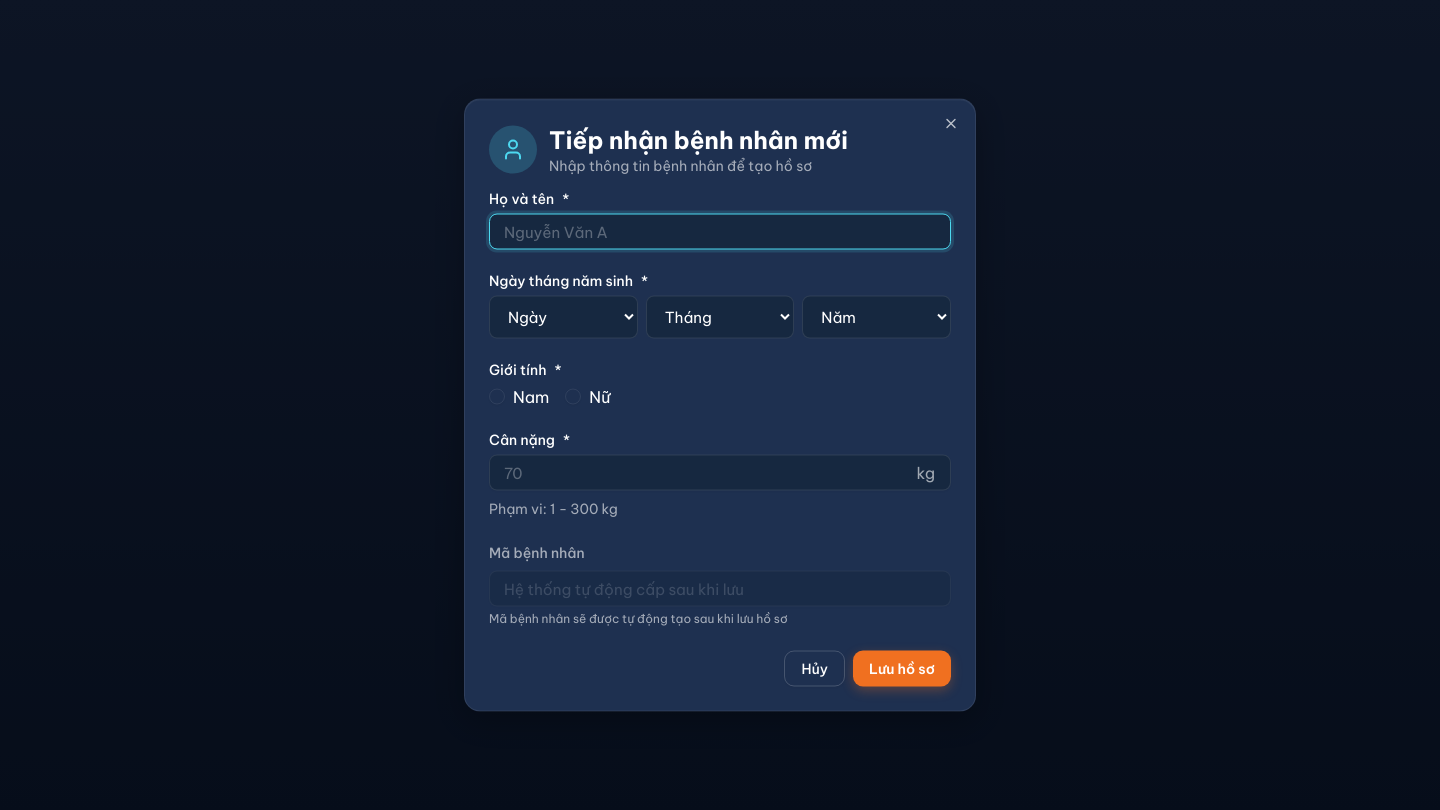
Test: PatientRegistrationDialog Component › Form Validation › should show error for empty full name
Click the button "Lưu hồ sơ": (902, 668) 853,650 -> 951,686
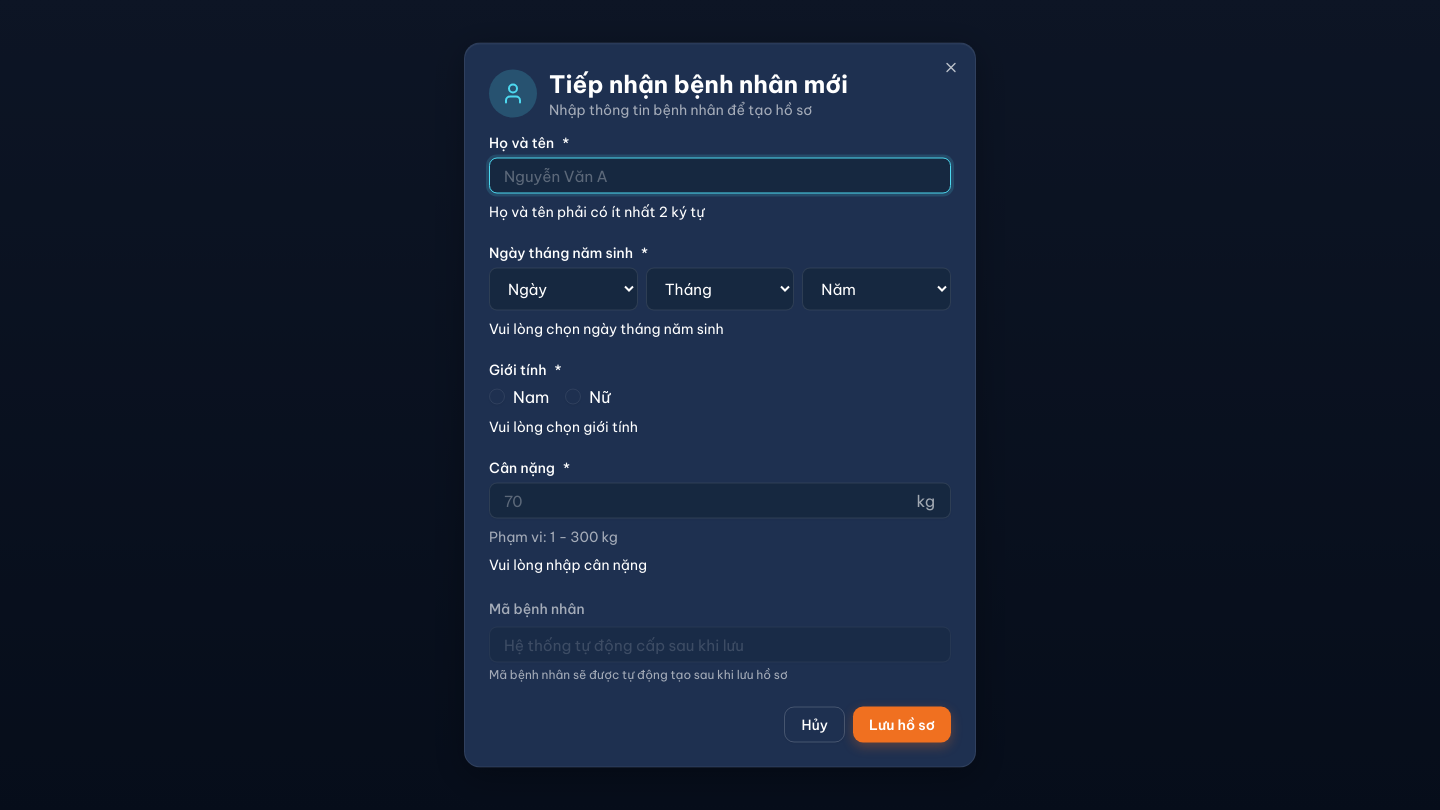
Check: the text "Họ và tên phải có ít nhất 2 ký tự" is shown, box 489,202 -> 704,220
